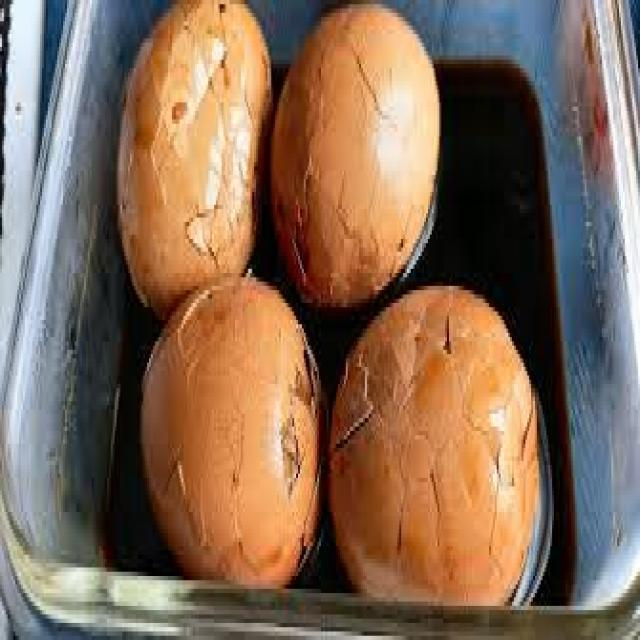biodegradable: (330, 286, 540, 602), (142, 276, 320, 584), (272, 0, 442, 306), (118, 0, 275, 308)
